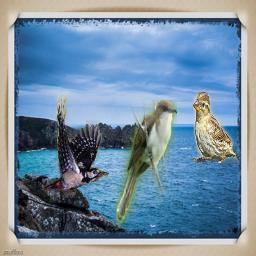Cuckoo: (116, 100, 177, 225)
Sparrow: (193, 92, 239, 163)
Woodpecker: (43, 94, 109, 198)
